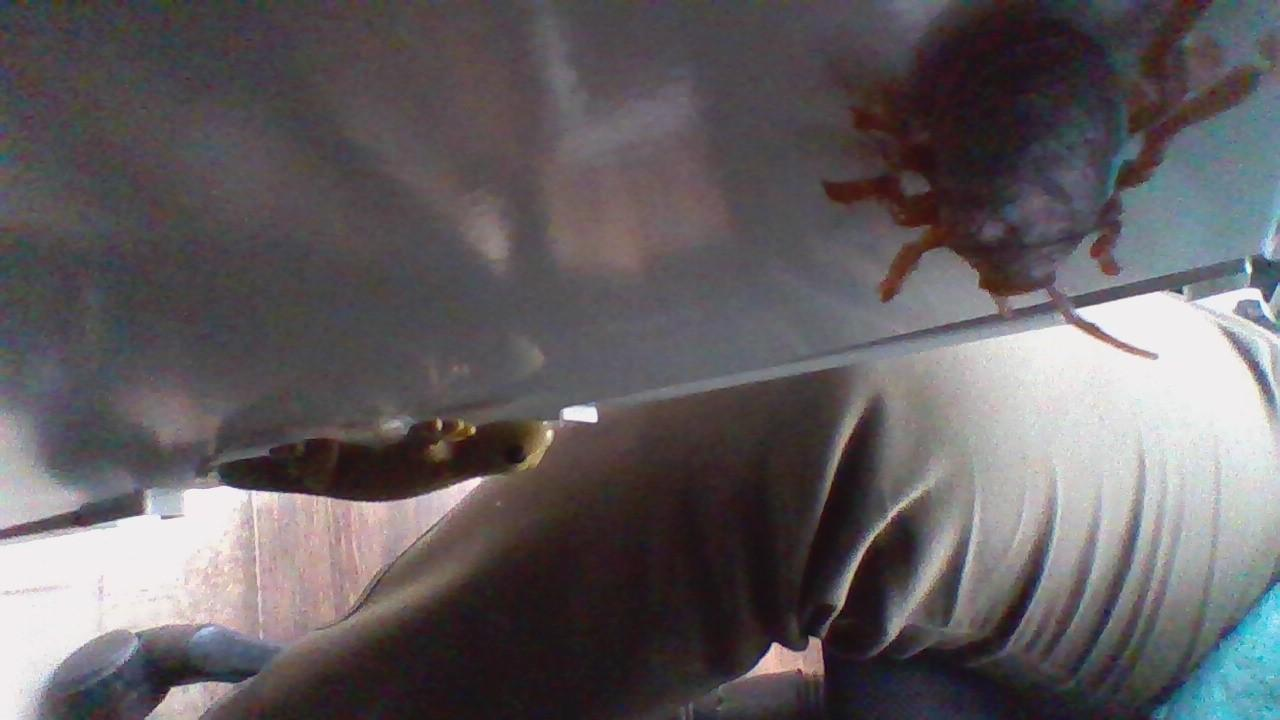cockroach: (823, 2, 1267, 359)
